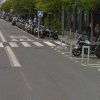crosswalk: (0, 41, 69, 47)
